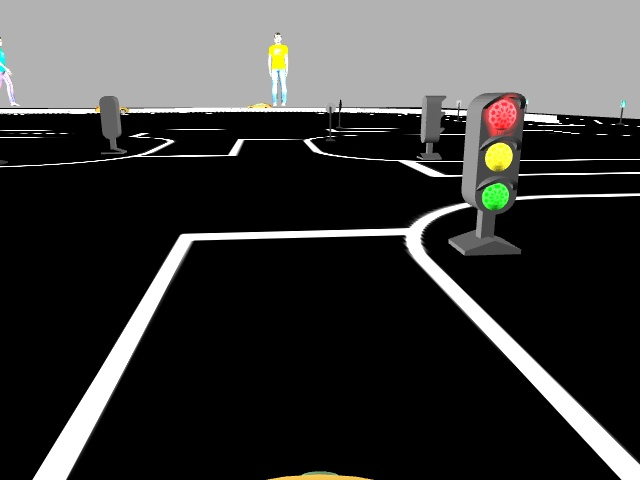TrafficLight: (459, 90, 527, 213)
